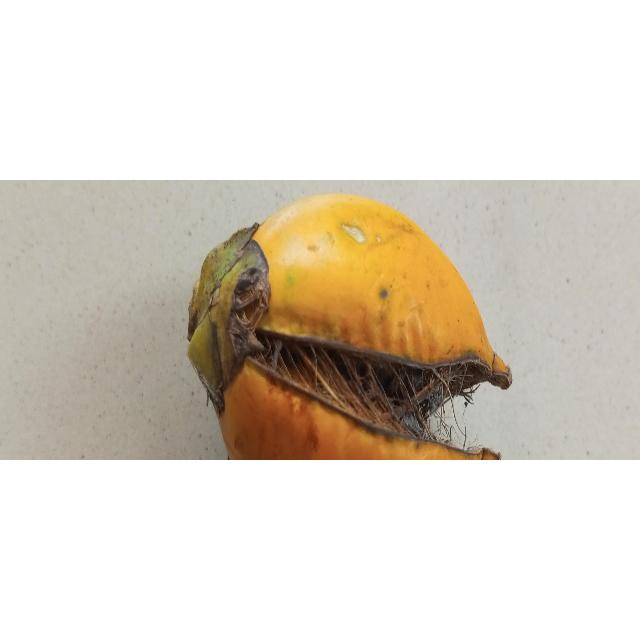damaged: (187, 193, 514, 461)
